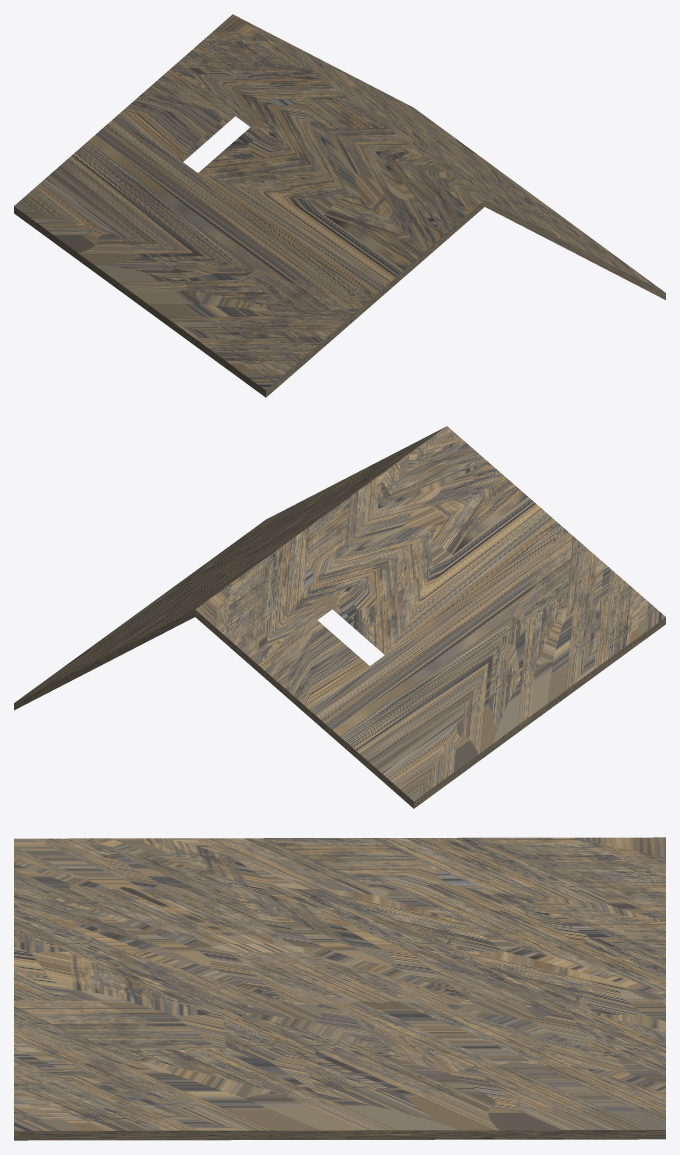
The model's file is BW_Bakery02_RoofDeck.fbx.
The picture shows the model from 3 angles, top to bottom: view 1: azimuth 30°, elevation 25°; view 2: azimuth 150°, elevation 25°; view 3: azimuth 270°, elevation 25°; orthographic projection. The views are drawn at different scales.
Visible parts, largest first — view 1: BW_Bakery02_RoofDeck; view 2: BW_Bakery02_RoofDeck; view 3: BW_Bakery02_RoofDeck.
Part boxes in pixels (x1=…): BW_Bakery02_RoofDeck: x1=14, y1=14, x2=665, y2=397; BW_Bakery02_RoofDeck: x1=14, y1=426, x2=665, y2=808; BW_Bakery02_RoofDeck: x1=14, y1=837, x2=665, y2=1140.
Bounding box in the file's own units: 7.44 × 2.59 × 8.12.
